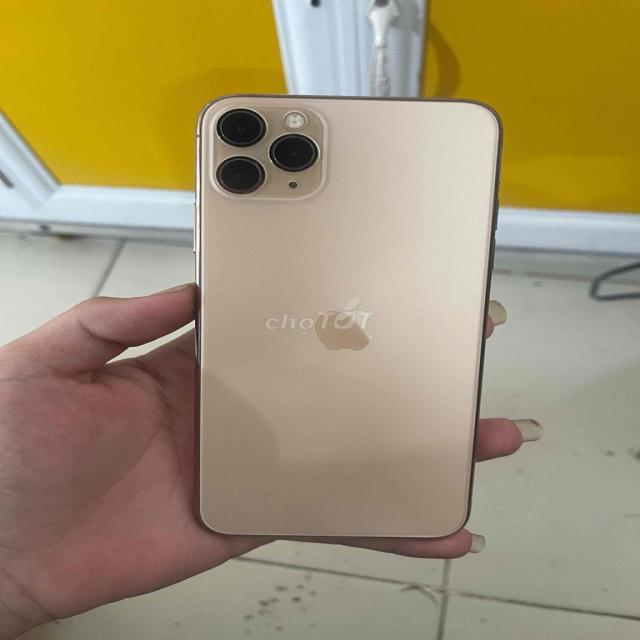gen_11: (194, 95, 502, 538)
